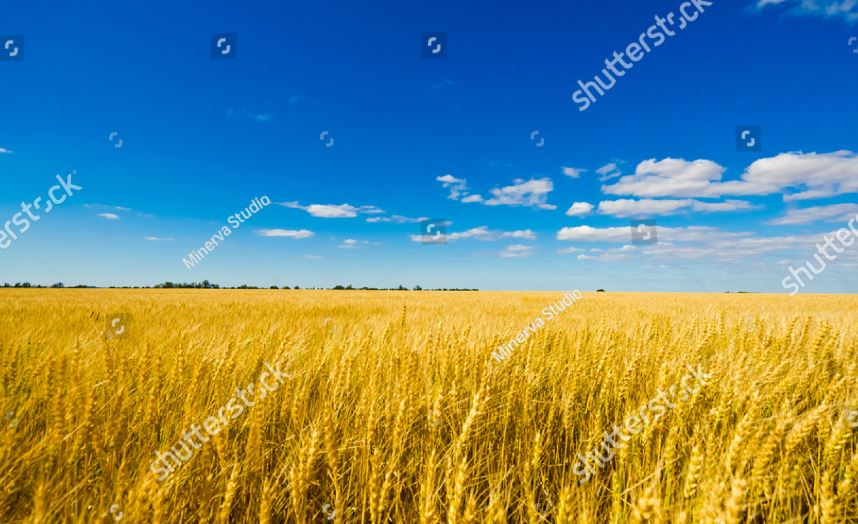Wheat: (363, 325, 784, 508)
